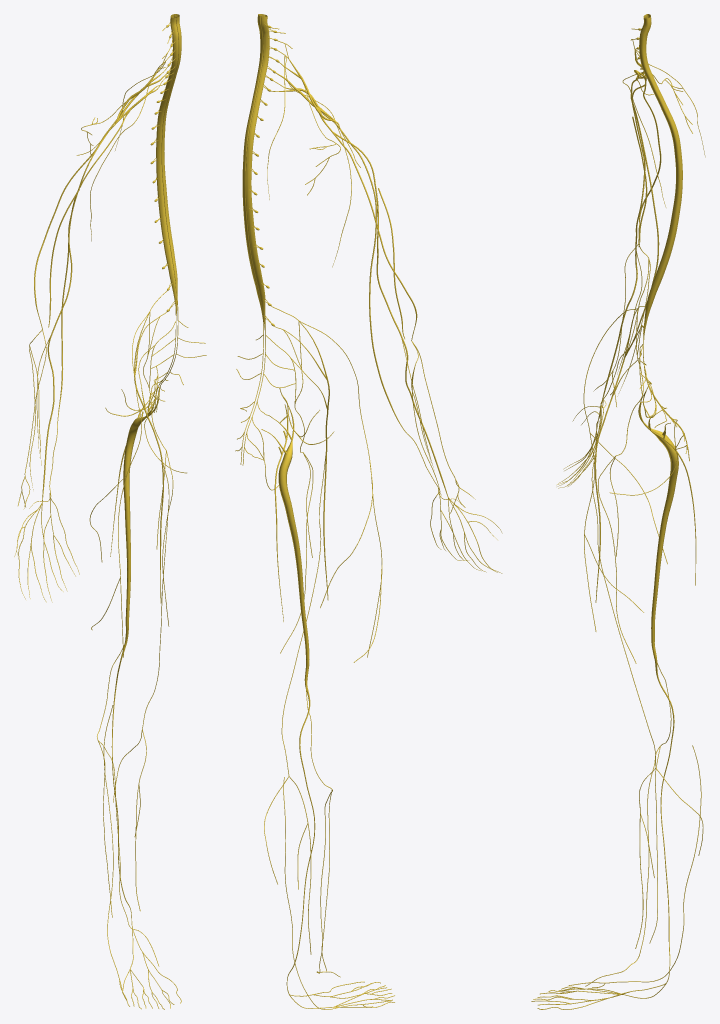
File: nerves.glb
3 renders of one model, left to right at view 1: azimuth 30°, elevation 25°; view 2: azimuth 150°, elevation 25°; view 3: azimuth 270°, elevation 25°, orthographic. The views are drawn at different scales.
Visible parts, largest first — view 1: nerve_spinal_cord, nerve_sciatic_r, nerve_saphenous_r, nerve_median_r, nerve_femoral_r, nerve_lateral_femoral_cutaneous_r, nerve_obturator_r, nerve_median_digital_r, nerve_brachial_plexus_r, nerve_cauda_equina, nerve_ulnar_r; view 2: nerve_spinal_cord, nerve_sciatic_r, nerve_saphenous_r, nerve_median_r, nerve_lateral_femoral_cutaneous_r, nerve_femoral_r, nerve_ulnar_r, nerve_obturator_r, nerve_cauda_equina, nerve_brachial_plexus_r; view 3: nerve_spinal_cord, nerve_sciatic_r, nerve_saphenous_r, nerve_lateral_femoral_cutaneous_r, nerve_obturator_r, nerve_femoral_r, nerve_plantar_digital_r, nerve_median_r, nerve_tibial_r, nerve_ulnar_r, nerve_sural_r, nerve_cauda_equina.
Boxes of the visible parts, <box> form: nerve_spinal_cord: <box>156,14,181,315</box>; nerve_sciatic_r: <box>123,366,158,639</box>; nerve_saphenous_r: <box>113,462,169,911</box>; nerve_median_r: <box>42,127,111,502</box>; nerve_femoral_r: <box>134,291,166,603</box>; nerve_lateral_femoral_cutaneous_r: <box>89,311,149,657</box>; nerve_obturator_r: <box>143,312,173,626</box>; nerve_median_digital_r: <box>14,502,63,602</box>; nerve_brachial_plexus_r: <box>104,47,170,134</box>; nerve_cauda_equina: <box>150,295,206,412</box>; nerve_ulnar_r: <box>52,123,122,466</box>; nerve_spinal_cord: <box>242,14,269,329</box>; nerve_sciatic_r: <box>261,388,309,680</box>; nerve_saphenous_r: <box>264,456,325,954</box>; nerve_median_r: <box>333,132,448,497</box>; nerve_lateral_femoral_cutaneous_r: <box>299,320,382,662</box>; nerve_femoral_r: <box>271,306,329,600</box>; nerve_ulnar_r: <box>332,121,426,467</box>; nerve_obturator_r: <box>276,321,313,653</box>; nerve_cauda_equina: <box>235,315,295,465</box>; nerve_brachial_plexus_r: <box>271,40,339,140</box>; nerve_spinal_cord: <box>639,14,682,339</box>; nerve_sciatic_r: <box>638,383,678,658</box>; nerve_saphenous_r: <box>591,451,703,948</box>; nerve_lateral_femoral_cutaneous_r: <box>583,308,667,631</box>; nerve_obturator_r: <box>598,309,643,663</box>; nerve_femoral_r: <box>594,306,645,602</box>; nerve_plantar_digital_r: <box>531,986,623,1009</box>; nerve_median_r: <box>601,84,645,403</box>; nerve_tibial_r: <box>654,658,674,982</box>; nerve_ulnar_r: <box>612,81,659,381</box>; nerve_sural_r: <box>568,745,701,987</box>; nerve_cauda_equina: <box>639,318,689,461</box>.
Bounding box in the file's own units: 0.377 × 1.54 × 0.2385.
